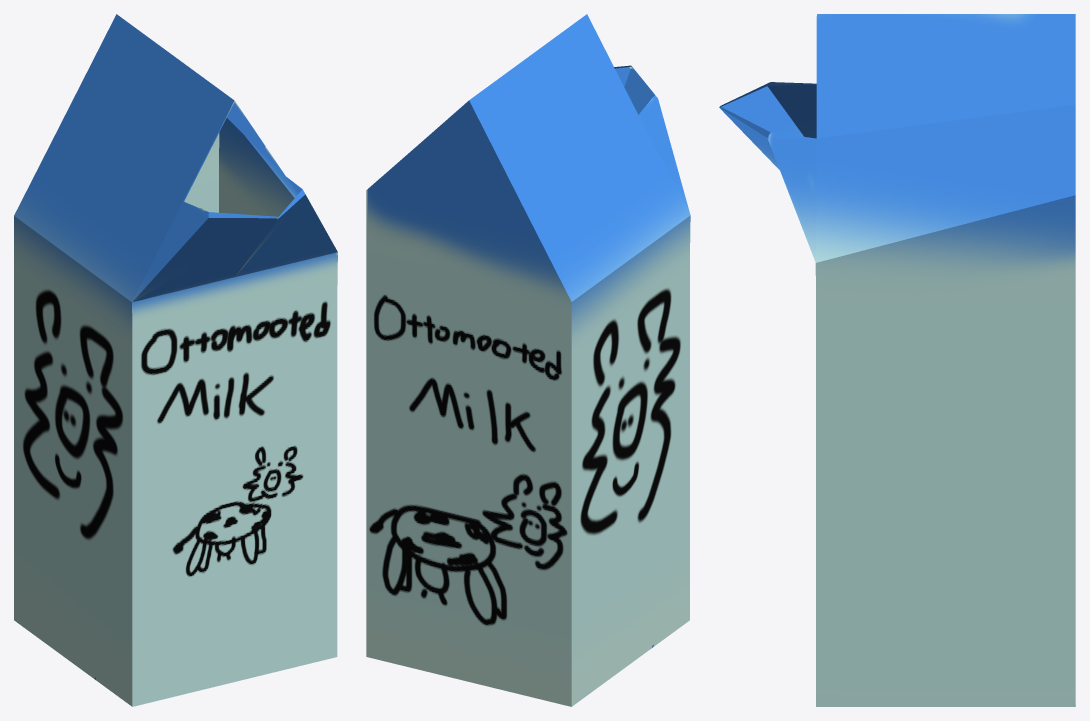
File: Milk.fbx
3 views of the same model, side by side, from view 1: azimuth 30°, elevation 25°; view 2: azimuth 150°, elevation 25°; view 3: azimuth 270°, elevation 25° (orthographic). The views are drawn at different scales.
Visible parts, largest first — view 1: MilkCarton; view 2: MilkCarton; view 3: MilkCarton.
Boxes of the visible parts, box(x1,y1,x2,y2) form: MilkCarton: box(14, 14, 337, 706); MilkCarton: box(366, 14, 690, 706); MilkCarton: box(719, 14, 1075, 706).
Size of the model in its own units: 9.03 by 12.34 by 24.36.
1 material, 1 textured.
